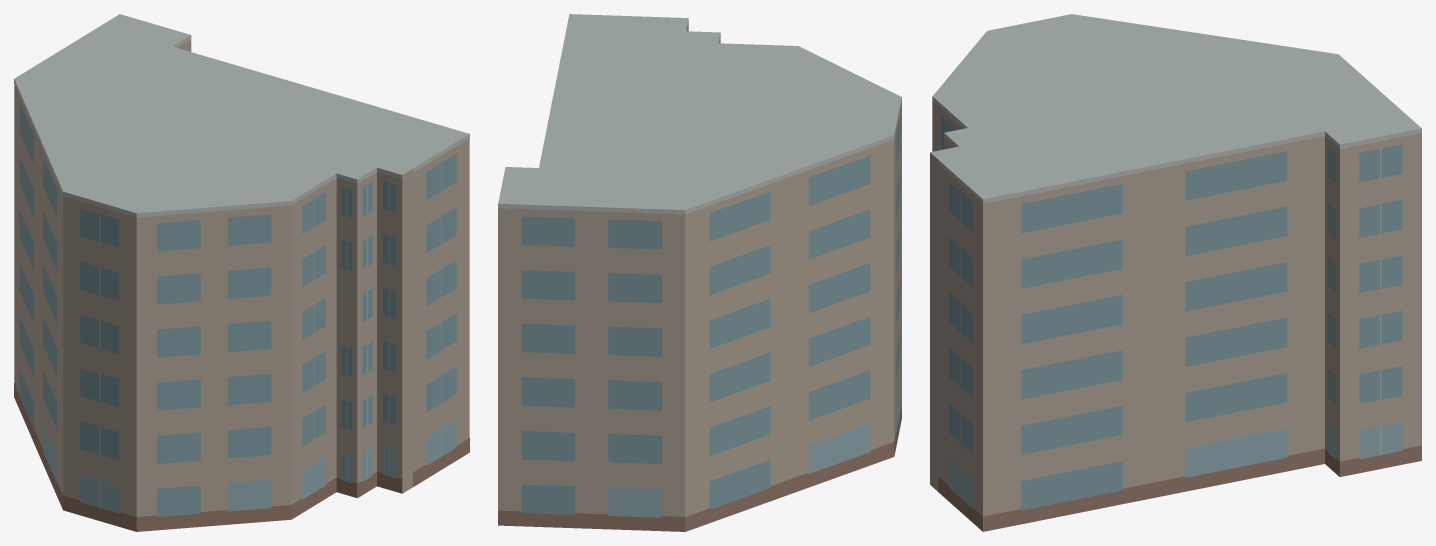
File: survey-upis-32970303.glb
The picture shows the model from 3 angles, left to right: view 1: azimuth 30°, elevation 25°; view 2: azimuth 150°, elevation 25°; view 3: azimuth 270°, elevation 25°; orthographic projection. The views are drawn at different scales.
Visible parts, largest first — view 1: survey-upis-32970303.tmp; view 2: survey-upis-32970303.tmp; view 3: survey-upis-32970303.tmp.
Part boxes in pixels (x1=…): survey-upis-32970303.tmp: x1=14, y1=14, x2=469, y2=531; survey-upis-32970303.tmp: x1=498, y1=14, x2=901, y2=531; survey-upis-32970303.tmp: x1=930, y1=14, x2=1421, y2=531.
Bounding box in the file's own units: 21.54 × 18 × 24.14.
